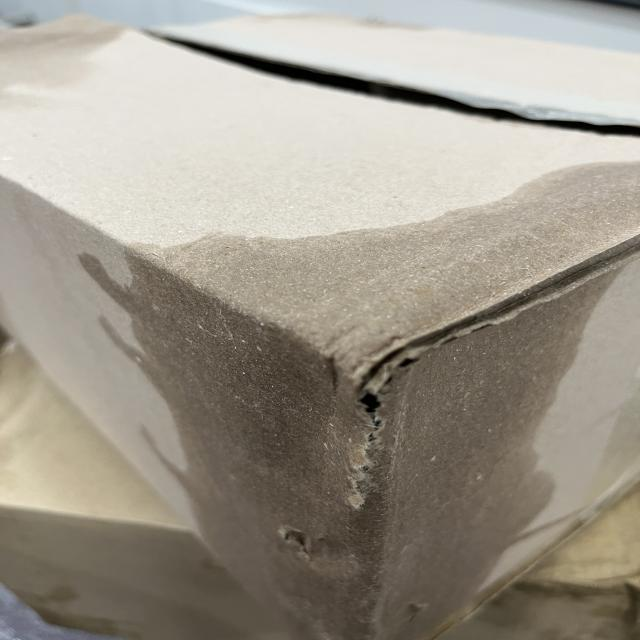wet: (103, 163, 639, 639)
